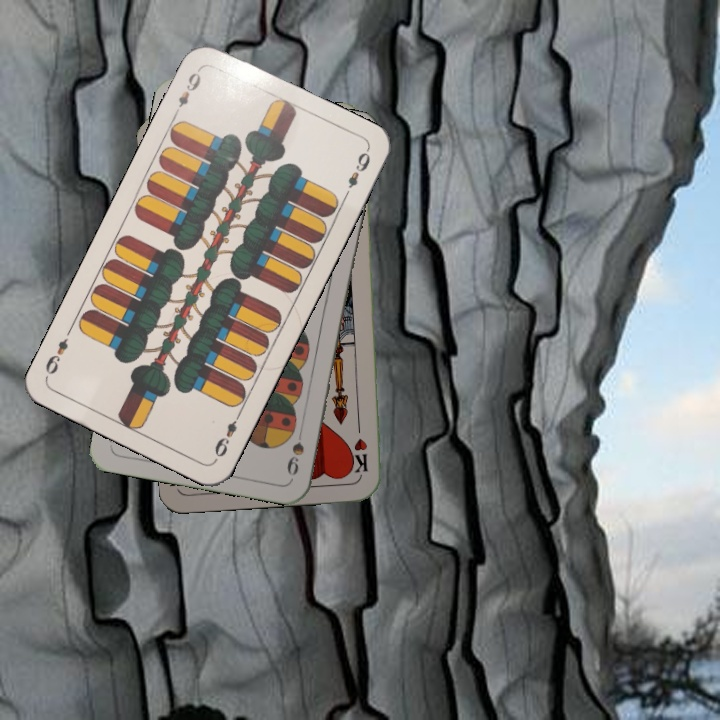E9: (169, 64, 204, 119), (210, 408, 244, 460)
HK: (349, 416, 370, 476)
S9: (283, 420, 307, 478)
